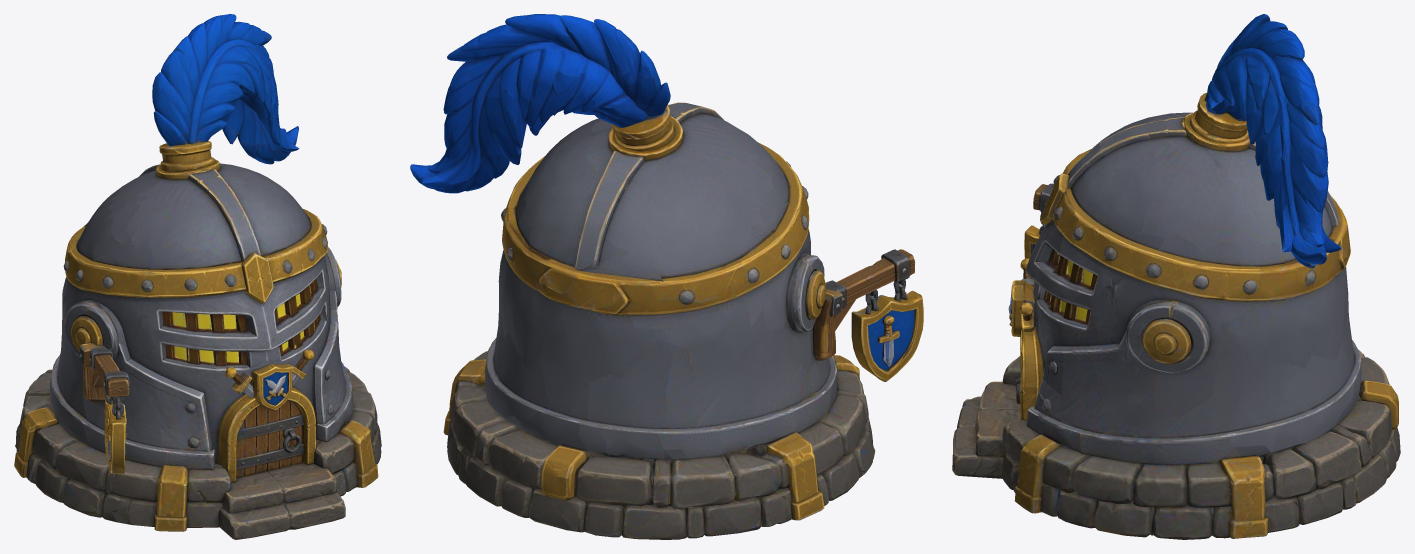
Rendered from knight_shop.glb.
The picture shows the model from 3 angles, left to right: view 1: azimuth 30°, elevation 25°; view 2: azimuth 150°, elevation 25°; view 3: azimuth 270°, elevation 25°; orthographic projection. The views are drawn at different scales.
Size of the model in its own units: 1.62 by 1.9 by 1.71.
1 material, 1 textured.
